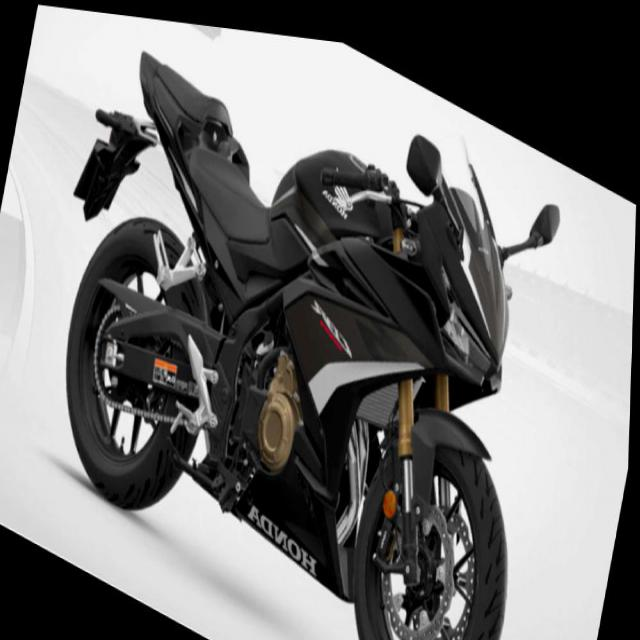CBR500R: (19, 3, 586, 639)
